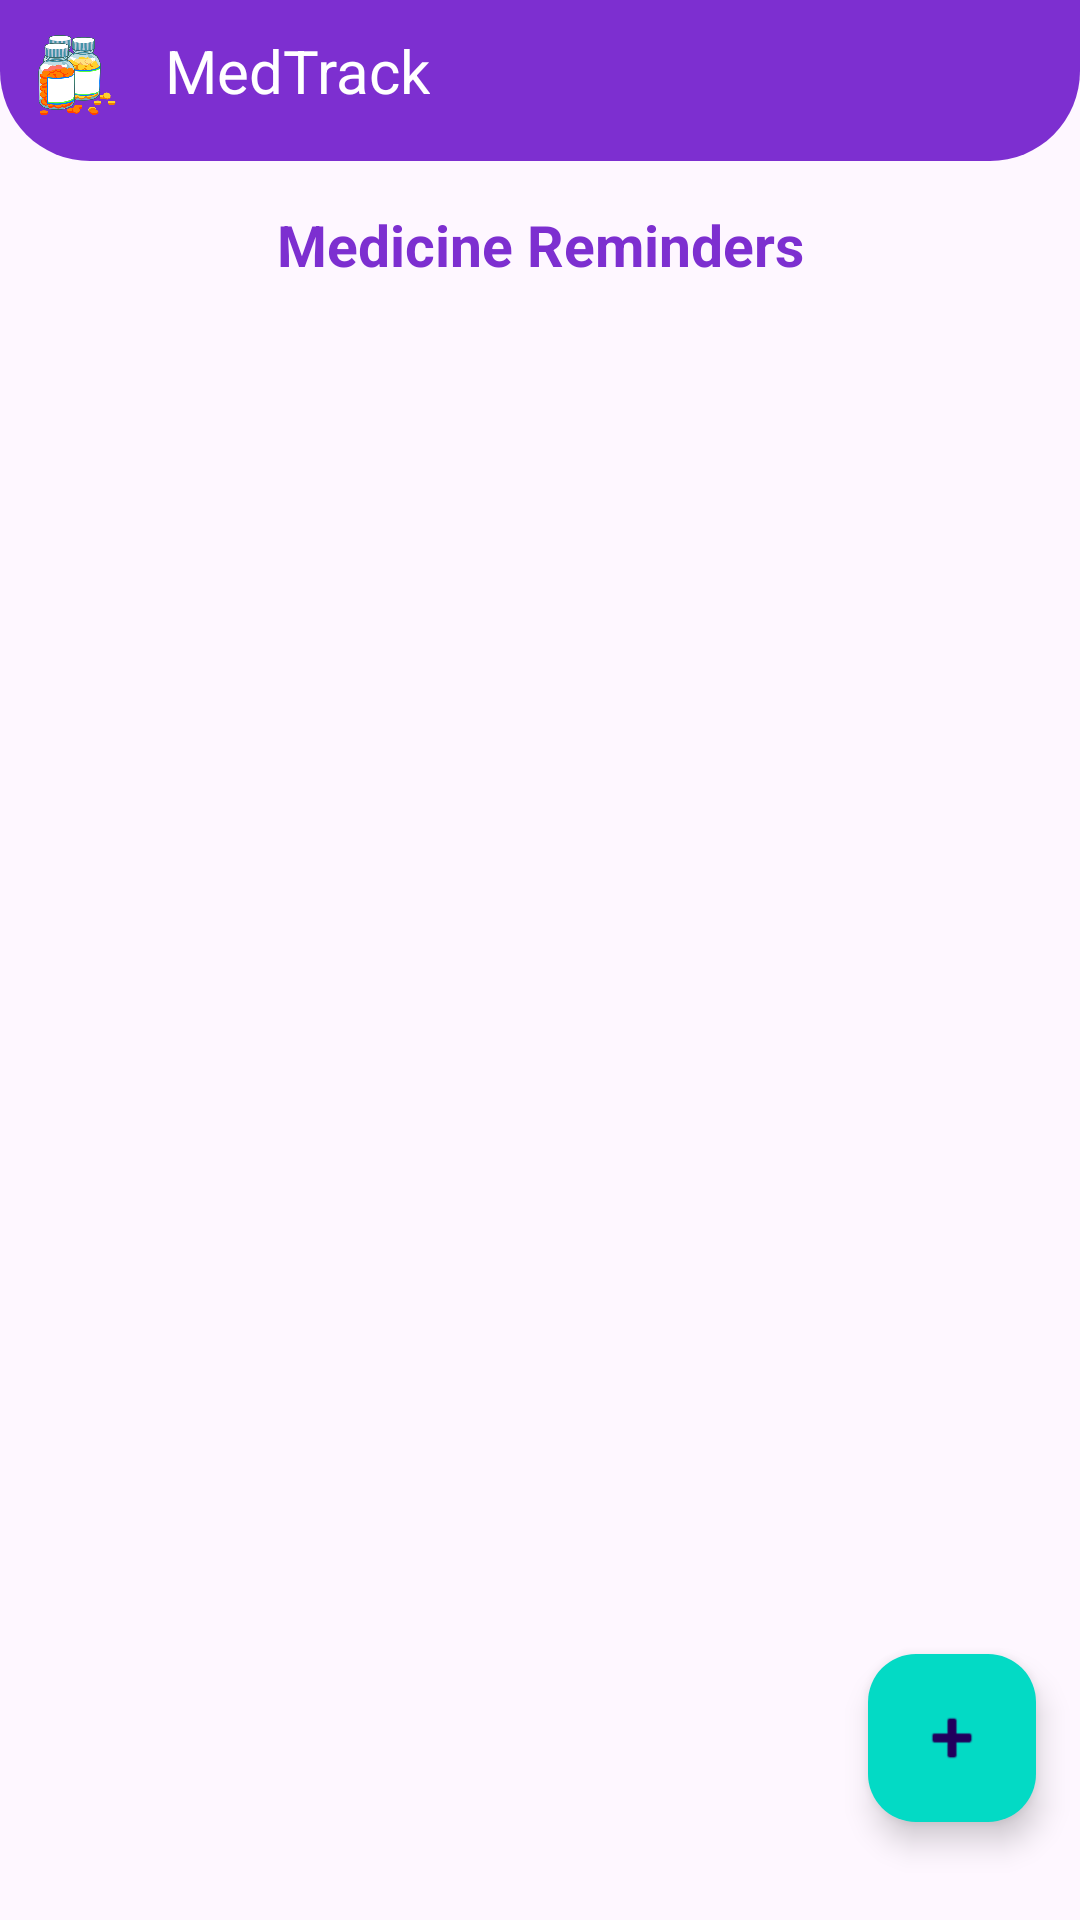

Where icons sit on this 1080 x 1920 app screen, as rect(x1, y1, x2, y2):
Add Reminder: rect(868, 1654, 1036, 1822)
